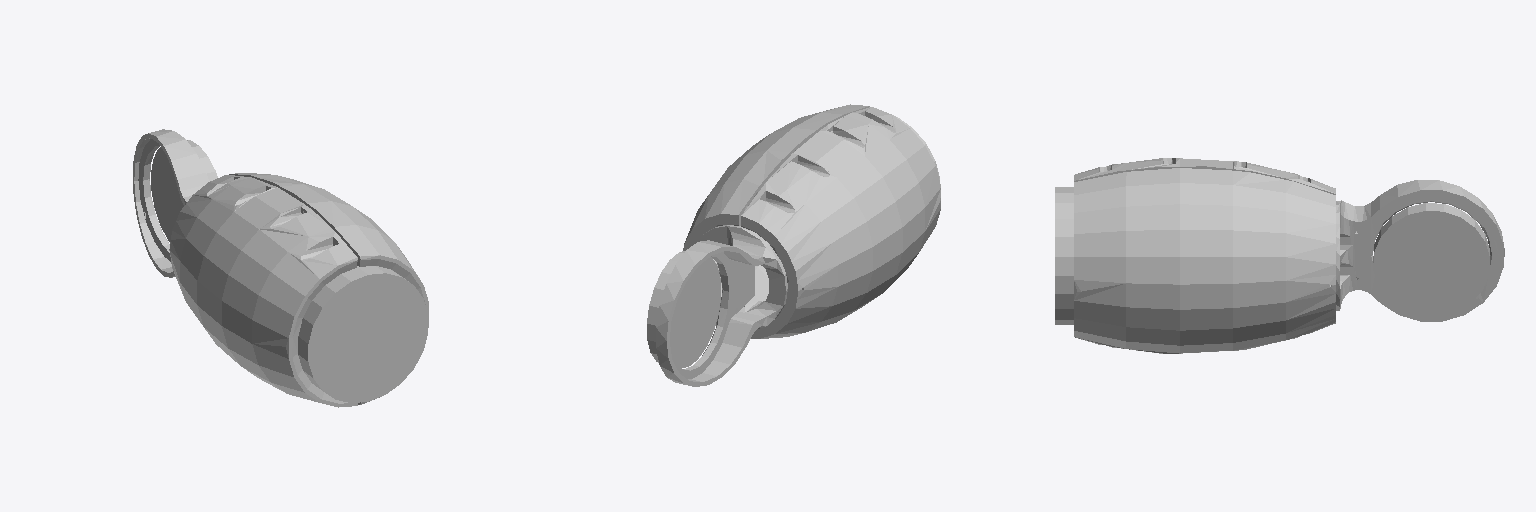
The model's file is va_right_lower_arm.stl.obj.
The picture shows the model from 3 angles: view 1: azimuth 30°, elevation 25°; view 2: azimuth 150°, elevation 25°; view 3: azimuth 270°, elevation 25°; orthographic projection.
Visible parts, largest first — view 1: <STL_BINARY>; view 2: <STL_BINARY>; view 3: <STL_BINARY>.
Part boxes in pixels (left/top/right/bottom): <STL_BINARY>: left=133, top=129, right=428, bottom=407; <STL_BINARY>: left=647, top=104, right=940, bottom=386; <STL_BINARY>: left=1055, top=158, right=1504, bottom=353.
Size of the model in its own units: 0.1227 by 0.1234 by 0.2827.